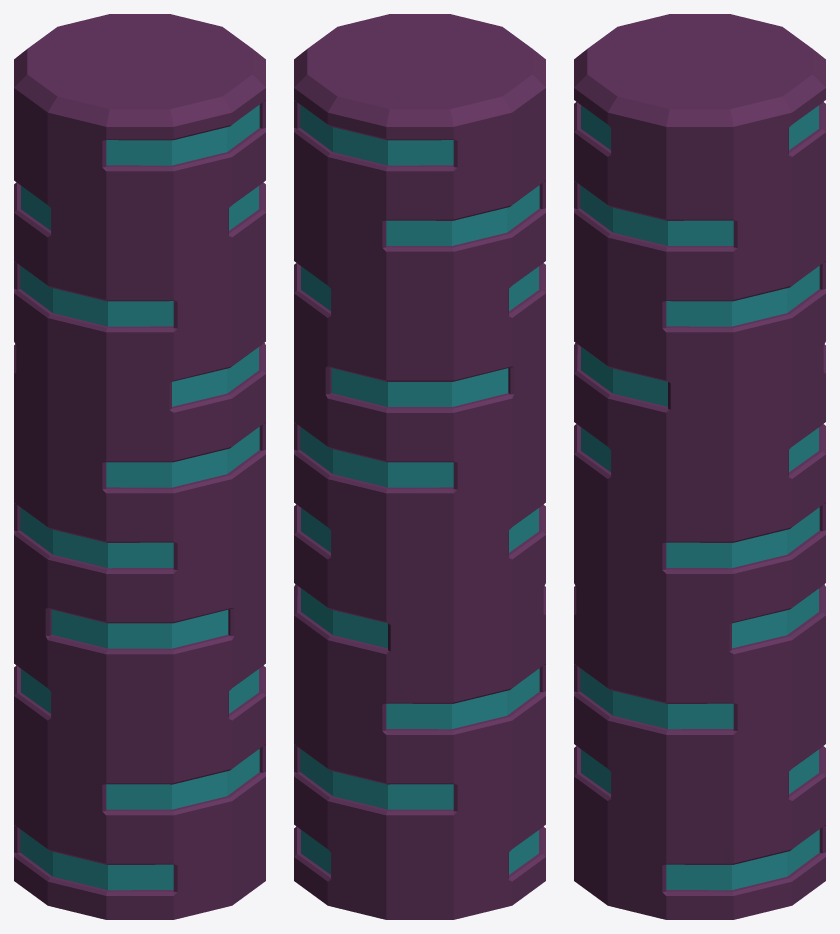
The model's file is BuildingB.fbx.
The picture shows the model from 3 angles, left to right: view 1: azimuth 30°, elevation 25°; view 2: azimuth 150°, elevation 25°; view 3: azimuth 270°, elevation 25°; orthographic projection.
Visible parts, largest first — view 1: BuildingB; view 2: BuildingB; view 3: BuildingB.
Part boxes in pixels (x1,y1,x2,y2): BuildingB: (14, 14, 265, 919); BuildingB: (294, 14, 545, 919); BuildingB: (574, 14, 825, 919).
Size of the model in its own units: 340 by 1200 by 340.
